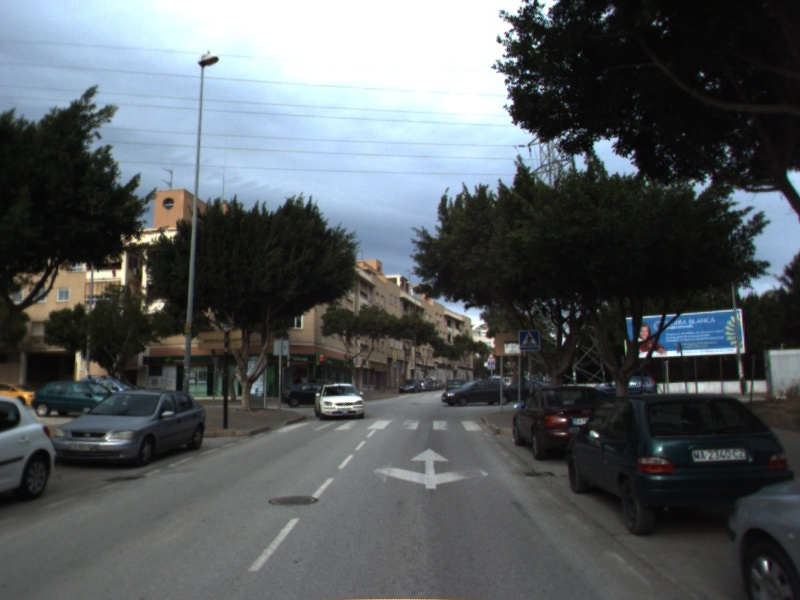STRAIGHT_LEFT_RIGHT: (371, 446, 491, 491)
